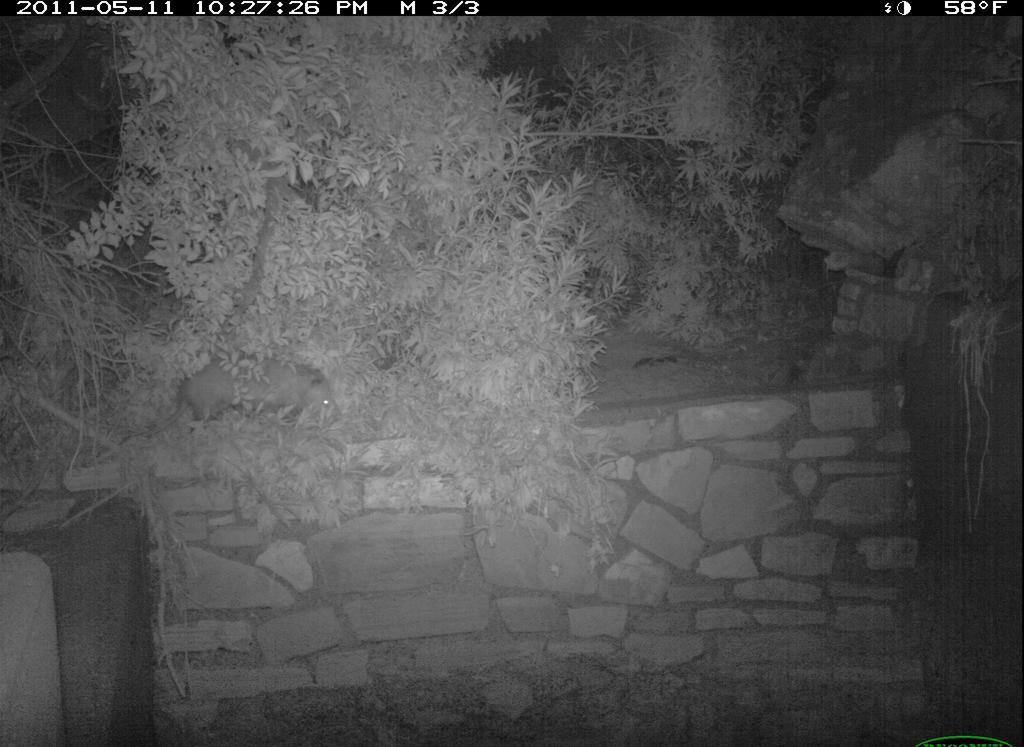opossum: (166, 332, 353, 465)
